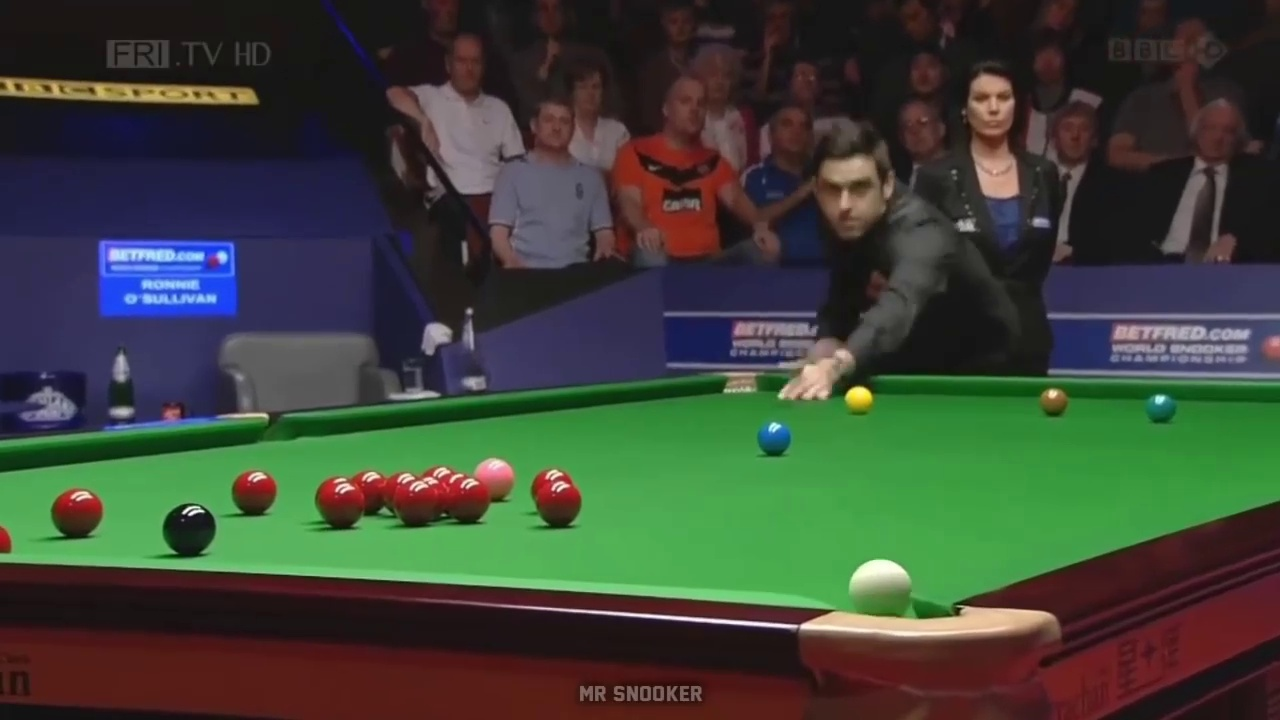baseball glove: (1033, 389, 1063, 416)
black: (161, 506, 216, 558)
blue: (760, 422, 790, 456)
green: (1146, 393, 1178, 423)
pink: (480, 458, 516, 488)
red: (48, 492, 104, 536), (534, 481, 580, 529), (233, 470, 278, 516), (395, 480, 439, 525), (318, 484, 360, 527), (450, 478, 488, 521)
yellow: (844, 386, 875, 414)
